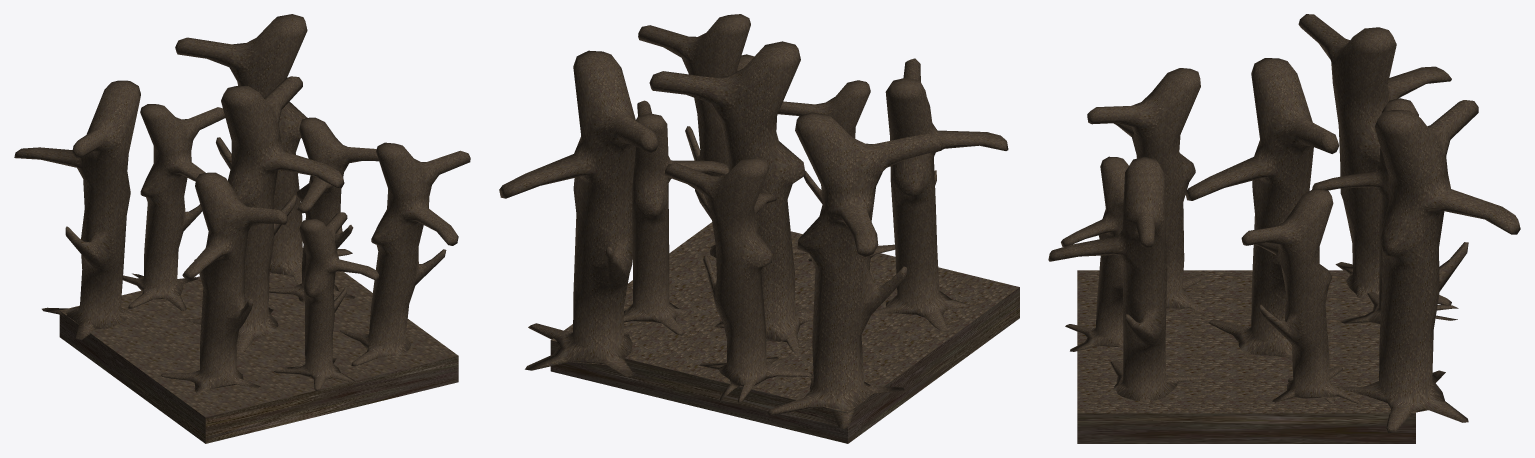
Rendered from trees-transformed.glb.
3 renders of one model, left to right at view 1: azimuth 30°, elevation 25°; view 2: azimuth 150°, elevation 25°; view 3: azimuth 270°, elevation 25°, orthographic. The views are drawn at different scales.
Visible parts, largest first — view 1: ground, tree.003, tree.005, tree.001, tree.004, tree.007, tree.002, tree.008, tree.006; view 2: ground, tree.002, tree.003, tree.005, tree.007, tree.004, tree.006, tree.001, tree.008; view 3: ground, tree.002, tree.005, tree.003, tree.001, tree.006, tree.004, tree.008, tree.007.
Part boxes in pixels (x1,y1,x2,y2): ground: [59, 271, 458, 443]; tree.003: [14, 80, 140, 339]; tree.005: [179, 76, 344, 353]; tree.001: [339, 142, 470, 366]; tree.004: [161, 172, 287, 393]; tree.007: [122, 104, 225, 310]; tree.002: [175, 14, 352, 284]; tree.008: [273, 212, 379, 390]; tree.006: [269, 117, 378, 303]; ground: [550, 222, 1019, 443]; tree.002: [499, 50, 658, 376]; tree.003: [766, 112, 942, 428]; tree.005: [649, 41, 813, 355]; tree.007: [664, 158, 813, 403]; tree.004: [873, 58, 1008, 331]; tree.006: [624, 100, 728, 335]; tree.001: [638, 14, 808, 257]; tree.008: [778, 80, 895, 281]; ground: [1077, 270, 1415, 443]; tree.002: [1336, 100, 1520, 432]; tree.005: [1185, 58, 1339, 360]; tree.003: [1298, 14, 1451, 305]; tree.001: [1048, 156, 1206, 401]; tree.006: [1241, 189, 1360, 403]; tree.004: [1087, 68, 1204, 312]; tree.008: [1061, 156, 1128, 351]; tree.007: [1312, 98, 1458, 324].
Size of the model in its own units: 25.91 by 20.5 by 27.92.
Materials: 1 (1 with a texture image).
